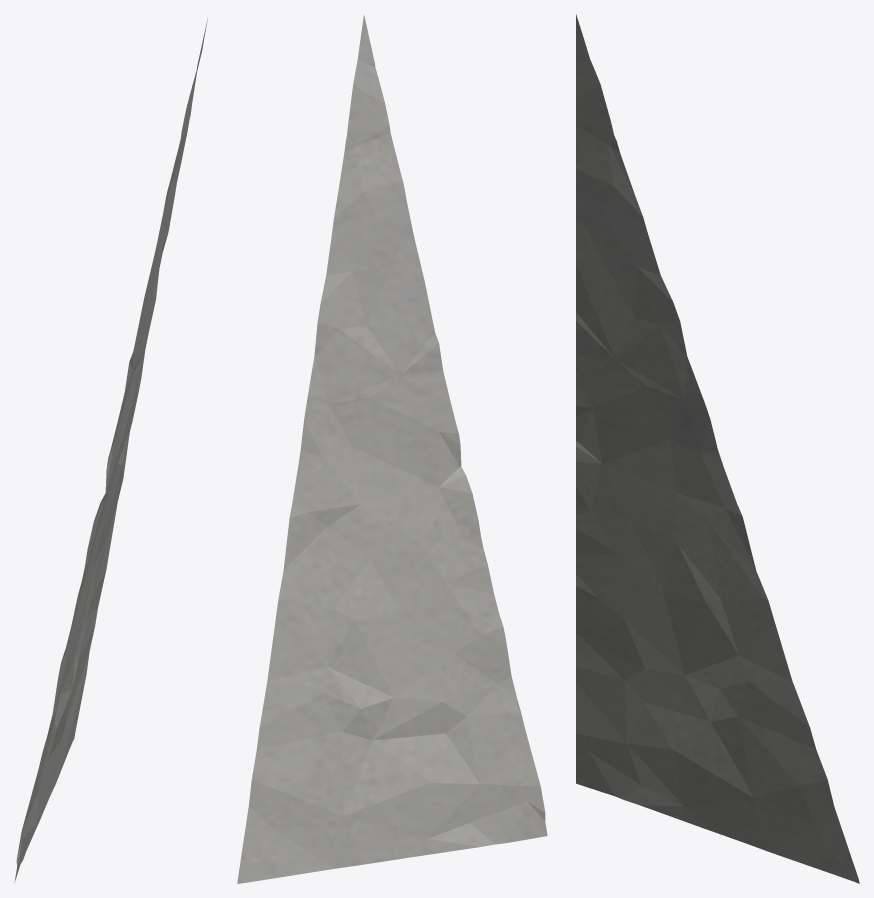
3 views of the same model, side by side, from view 1: azimuth 30°, elevation 25°; view 2: azimuth 150°, elevation 25°; view 3: azimuth 270°, elevation 25° (orthographic). The views are drawn at different scales.
Bounding box in the file's own units: 0.2013 × 0.8143 × 0.2407.
1 material, 1 textured.
